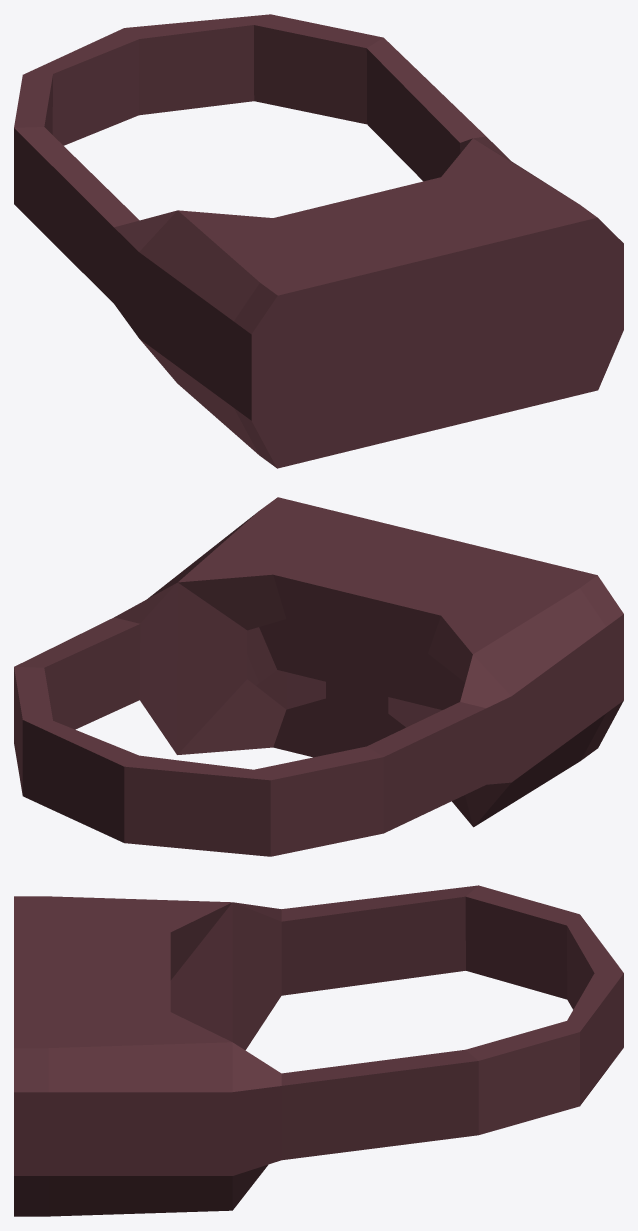
File: vr-headset.fbx
The picture shows the model from 3 angles, top to bottom: view 1: azimuth 30°, elevation 25°; view 2: azimuth 150°, elevation 25°; view 3: azimuth 270°, elevation 25°; orthographic projection. The views are drawn at different scales.
Parts seen in each view (by area): view 1: vr-headset; view 2: vr-headset; view 3: vr-headset.
Part boxes in pixels (x1=…): vr-headset: x1=14, y1=14, x2=623, y2=468; vr-headset: x1=14, y1=497, x2=623, y2=856; vr-headset: x1=14, y1=885, x2=623, y2=1216.
Bounding box in the file's own units: 0.2118 × 0.094 × 0.3089.
